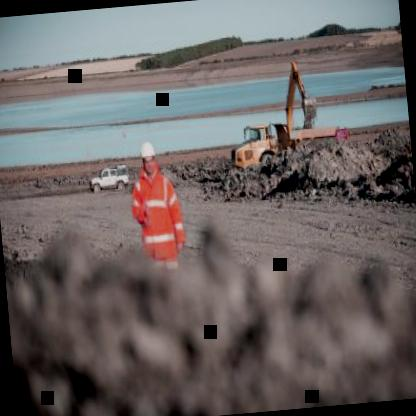helmet: (138, 140, 159, 176)
